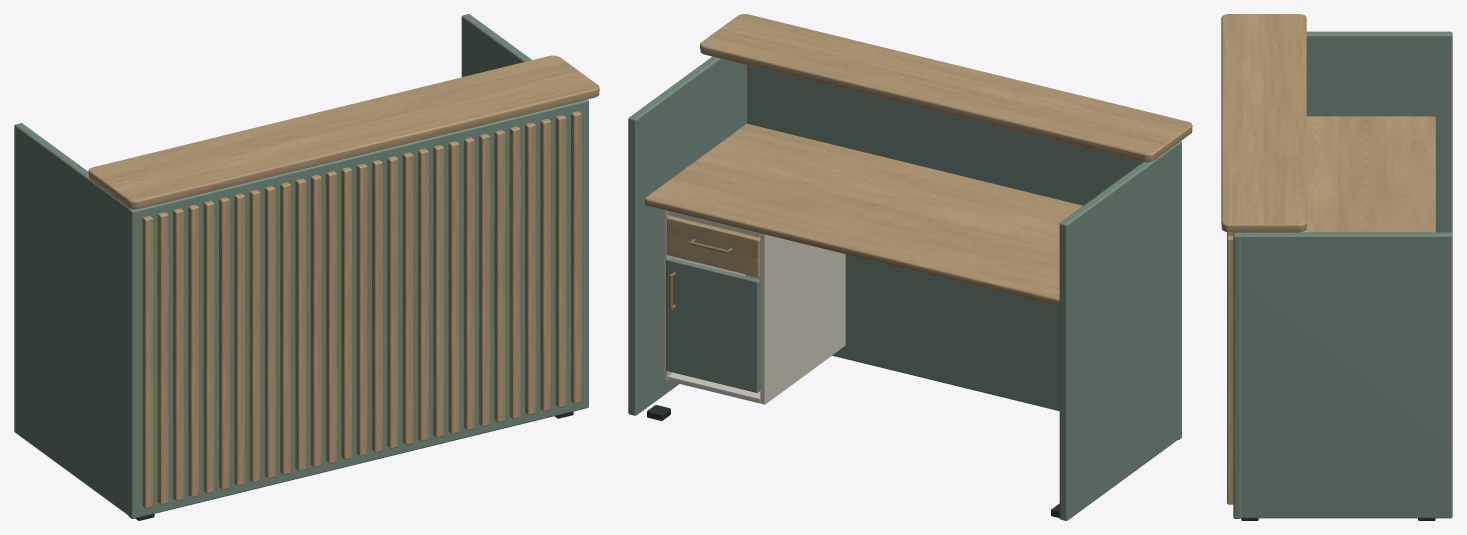
The model's file is reception-desk.glb.
The picture shows the model from 3 angles, left to right: view 1: azimuth 30°, elevation 25°; view 2: azimuth 150°, elevation 25°; view 3: azimuth 270°, elevation 25°; orthographic projection. The views are drawn at different scales.
Visible parts, largest first — view 1: Reception front structural panel, Reception end privacy return, Raised reception counter, Ash front vertical reed.011, Ash front vertical reed.027, Ash front vertical reed.001, Ash front vertical reed.003, Ash front vertical reed.008, Ash front vertical reed.010, Ash front vertical reed.013, Ash front vertical reed.014, Ash front vertical reed.017 (+21 smaller); view 2: Reception front structural panel, Staff writing worktop, Reception end privacy return, Raised reception counter, Reception end privacy return.001, Under-counter storage side.001, Staff cupboard door, Staff drawer front, Under-counter storage side, Under-counter storage deck; view 3: Reception end privacy return.001, Raised reception counter, Staff writing worktop, Reception end privacy return, Reception front structural panel, Ash front vertical reed.028.
Part boxes in pixels (x1,y1,x2,y2): Reception front structural panel: (128, 99, 588, 518); Reception end privacy return: (14, 123, 132, 514); Raised reception counter: (88, 55, 599, 209); Ash front vertical reed.011: (310, 175, 321, 467); Ash front vertical reed.027: (555, 115, 566, 407); Ash front vertical reed.001: (157, 212, 168, 504); Ash front vertical reed.003: (188, 204, 199, 497); Ash front vertical reed.008: (264, 186, 275, 478); Ash front vertical reed.010: (295, 178, 306, 471); Ash front vertical reed.013: (341, 167, 352, 459); Ash front vertical reed.014: (356, 163, 367, 456); Ash front vertical reed.017: (402, 152, 413, 445); Reception front structural panel: (747, 65, 1181, 439); Staff writing worktop: (645, 123, 1082, 306); Reception end privacy return: (1059, 143, 1177, 520); Raised reception counter: (700, 14, 1192, 162); Reception end privacy return.001: (628, 56, 746, 415); Under-counter storage side.001: (760, 233, 845, 404); Staff cupboard door: (666, 257, 760, 392); Staff drawer front: (667, 216, 760, 277); Under-counter storage side: (662, 209, 745, 380); Under-counter storage deck: (667, 372, 760, 403); Reception end privacy return.001: (1237, 232, 1452, 518); Raised reception counter: (1221, 14, 1306, 232); Staff writing worktop: (1301, 116, 1435, 232); Reception end privacy return: (1306, 31, 1452, 233); Reception front structural panel: (1233, 232, 1240, 518); Ash front vertical reed.028: (1227, 235, 1233, 504).
Size of the model in its own units: 1.64 by 1.1 by 0.7585.
6 materials, 2 textured.
